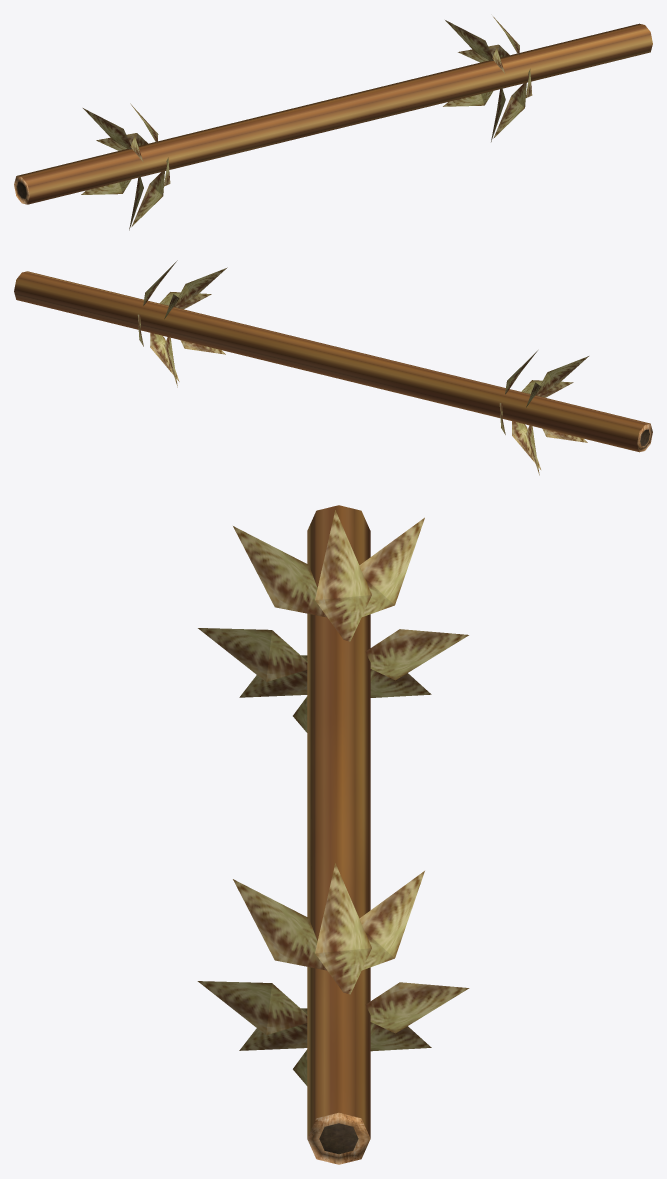
The model's file is maya_zara_elite.dae.
3 renders of one model, top to bottom at view 1: azimuth 30°, elevation 25°; view 2: azimuth 150°, elevation 25°; view 3: azimuth 270°, elevation 25°, orthographic. The views are drawn at different scales.
Parts seen in each view (by area): view 1: maya_zara_elite; view 2: maya_zara_elite; view 3: maya_zara_elite.
Boxes of the visible parts, bbox=[...] form: maya_zara_elite: bbox=[14, 16, 652, 230]; maya_zara_elite: bbox=[14, 260, 652, 475]; maya_zara_elite: bbox=[197, 505, 469, 1164].
Bounding box in the file's own units: 3.69 × 0.6984 × 0.6994.
Materials: 1 (1 with a texture image).
